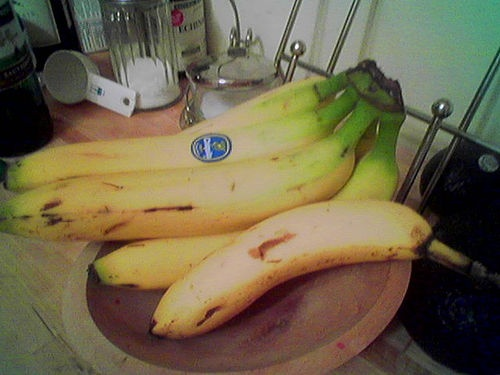bottle: (97, 0, 279, 110), (168, 0, 380, 79), (1, 0, 57, 161)
bowl: (183, 46, 464, 169)
